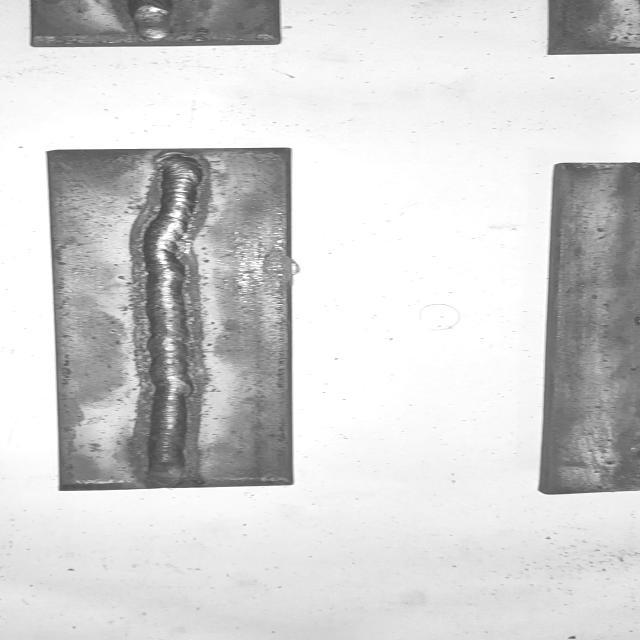Welding Line: (138, 154, 204, 483)
Workpiece: (40, 145, 302, 496), (534, 156, 640, 497), (25, 0, 286, 49)
